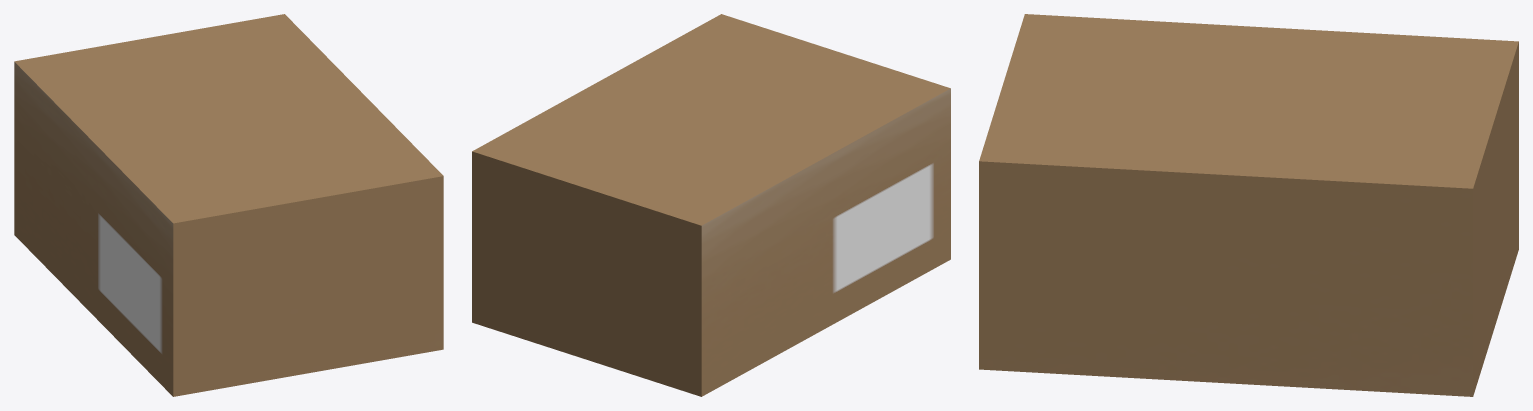
The model's file is Eden_Box_3.fbx.
3 renders of one model, left to right at view 1: azimuth 30°, elevation 25°; view 2: azimuth 150°, elevation 25°; view 3: azimuth 270°, elevation 25°, orthographic. The views are drawn at different scales.
Visible parts, largest first — view 1: pCube41; view 2: pCube41; view 3: pCube41.
Boxes of the visible parts, x1=… form: pCube41: x1=14, y1=14, x2=443, y2=396; pCube41: x1=472, y1=14, x2=950, y2=396; pCube41: x1=979, y1=14, x2=1518, y2=396.
Bounding box in the file's own units: 0.0171 × 0.0095 × 0.0223.
Materials: 1 (1 with a texture image).
